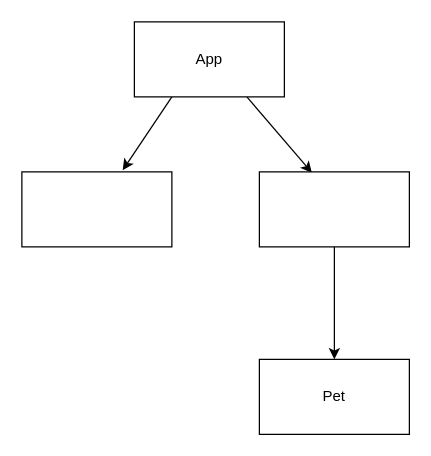
This 431x456 diagram has some shape labels left out. The centre of each missing label's shape, as x and y in pixels:
"Filters" belongs at point (96, 209).
"PetBrowser" belongs at point (333, 209).
